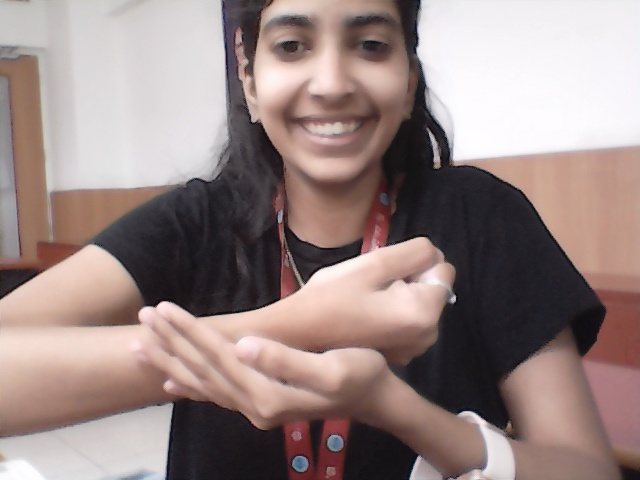Baby: (114, 218, 476, 454)
